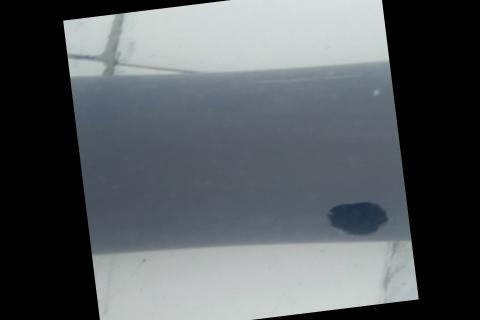kebocoran: (322, 196, 388, 241)
